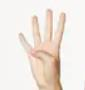right: (16, 9, 68, 84)
